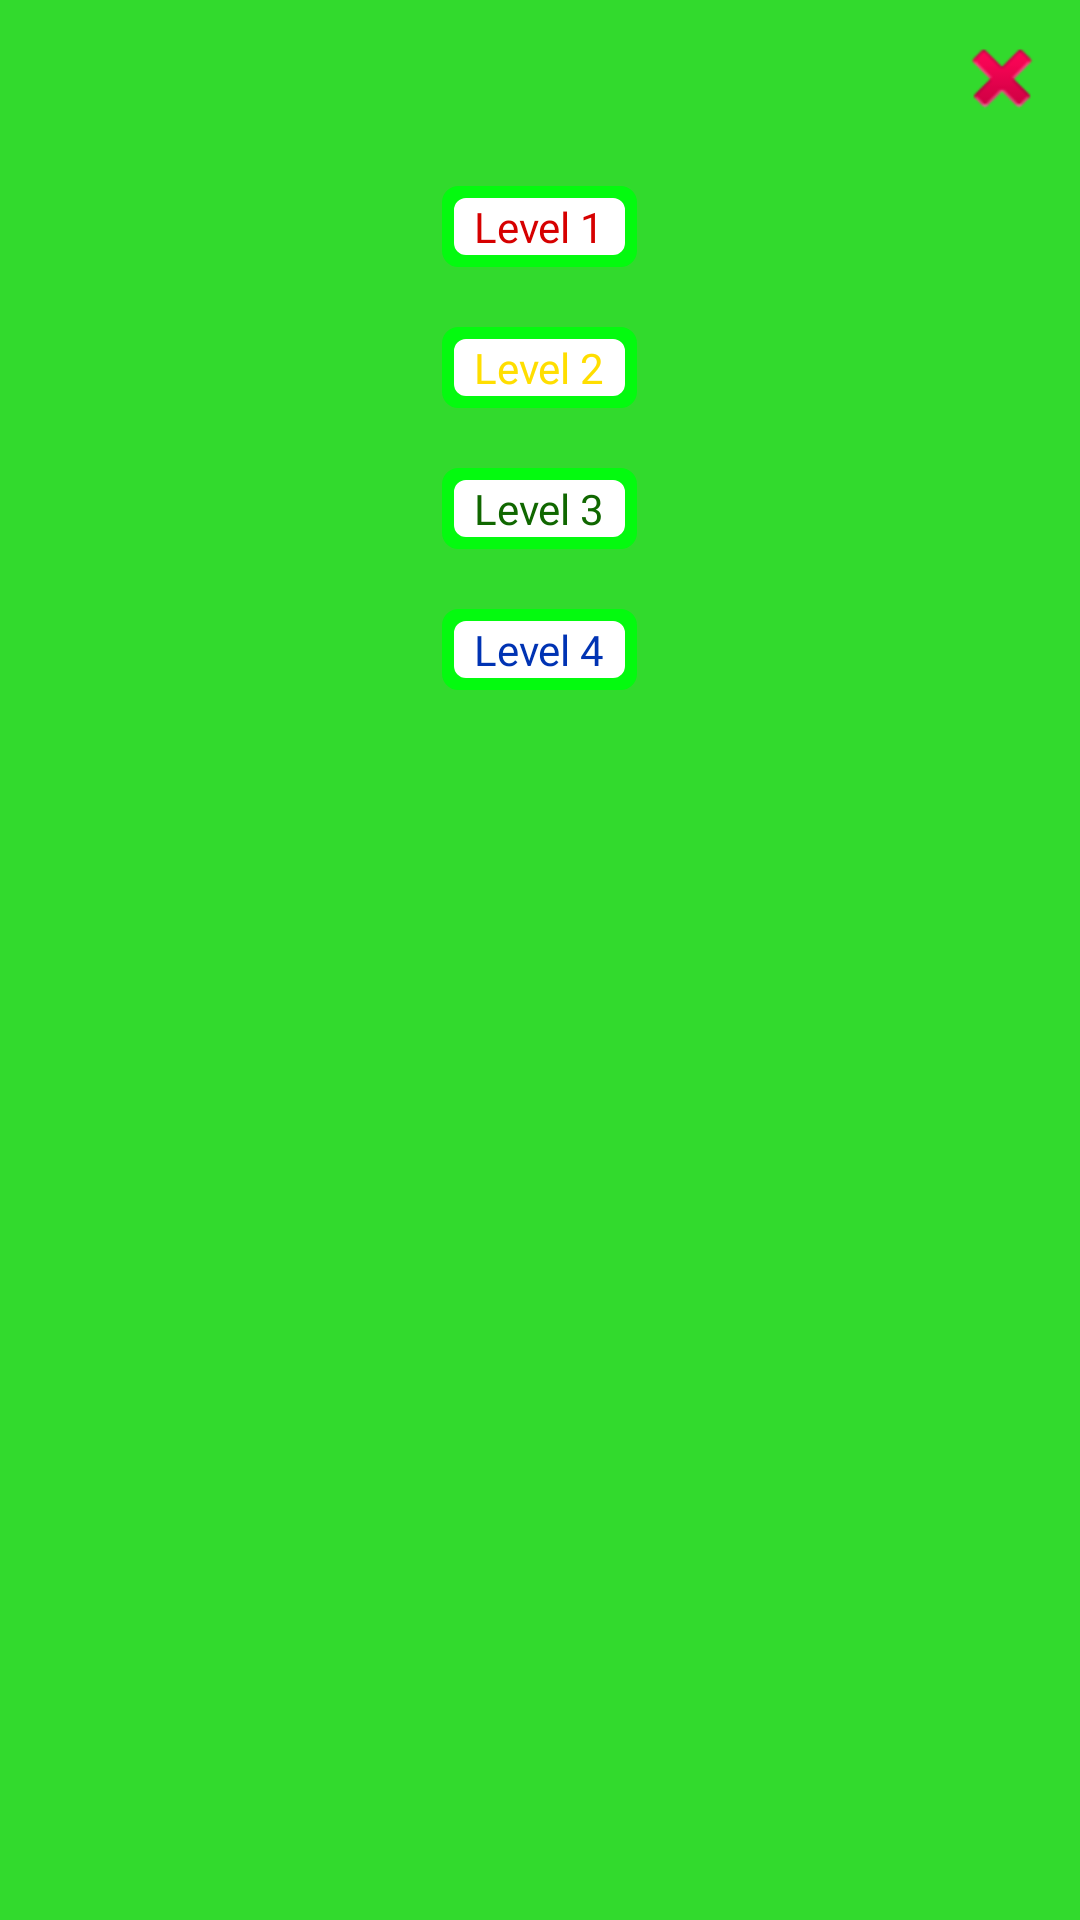

Named icons in this screenshot (1080w x 1920h) and their centers, [x,y]:
delete: [1002,78]
